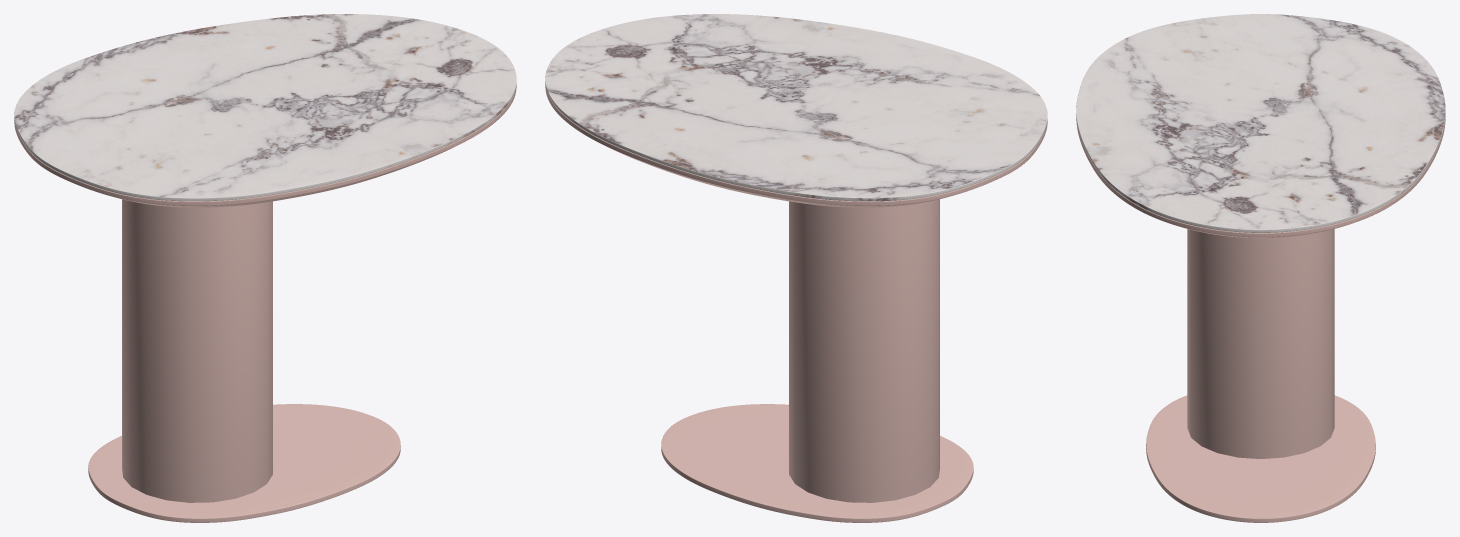
File: SBH_EGGSIGHTMENT_MID.glb
3 views of the same model, side by side, from view 1: azimuth 30°, elevation 25°; view 2: azimuth 150°, elevation 25°; view 3: azimuth 270°, elevation 25° (orthographic). The views are drawn at different scales.
Visible parts, largest first — view 1: EGGSIGHTMENT - MID; view 2: EGGSIGHTMENT - MID; view 3: EGGSIGHTMENT - MID.
Part boxes in pixels (x1,y1,x2,y2): EGGSIGHTMENT - MID: [14, 14, 516, 522]; EGGSIGHTMENT - MID: [545, 14, 1047, 522]; EGGSIGHTMENT - MID: [1076, 14, 1445, 522].
Size of the model in its own units: 0.614 by 0.4572 by 0.444.
Materials: 2 (1 with a texture image).
